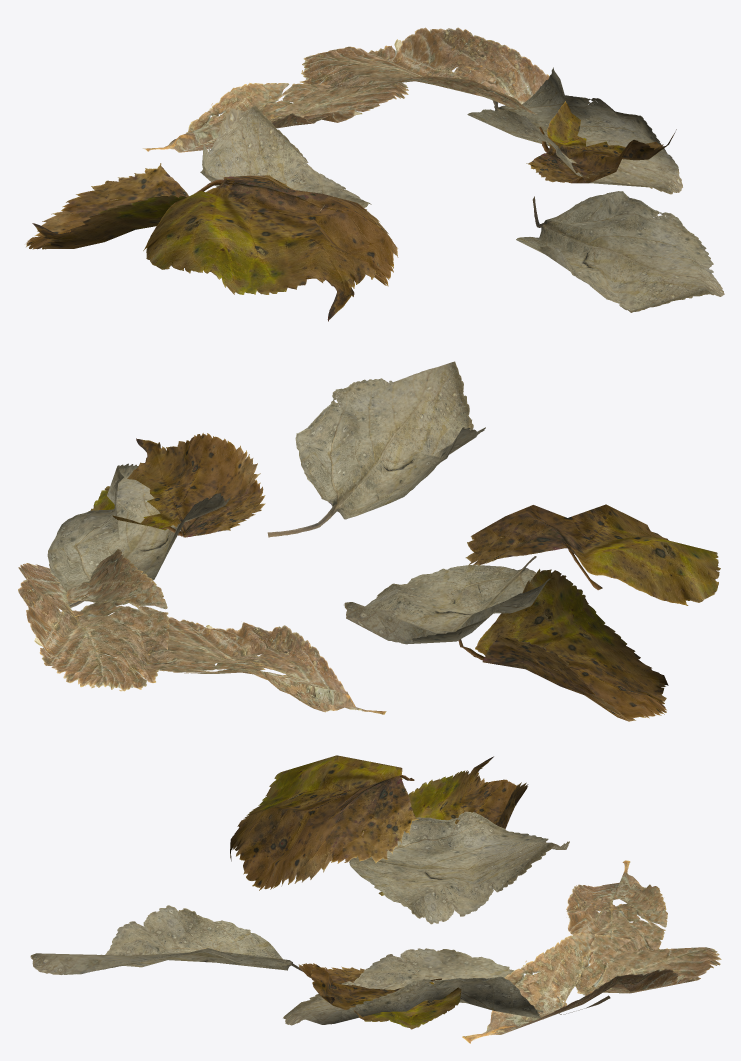
The model's file is leaves.glb.
The picture shows the model from 3 angles, top to bottom: view 1: azimuth 30°, elevation 25°; view 2: azimuth 150°, elevation 25°; view 3: azimuth 270°, elevation 25°; orthographic projection. The views are drawn at different scales.
Visible parts, largest first — view 1: AE_15TH_DRY_LEAVES_02, AE_15TH_DRY_LEAVES_03, AE_15TH_DRY_LEAVES_01; view 2: AE_15TH_DRY_LEAVES_03, AE_15TH_DRY_LEAVES_02, AE_15TH_DRY_LEAVES_01; view 3: AE_15TH_DRY_LEAVES_02, AE_15TH_DRY_LEAVES_03, AE_15TH_DRY_LEAVES_01.
Part boxes in pixels (left/top/right/bottom): AE_15TH_DRY_LEAVES_02: left=143, top=82, right=676, bottom=321; AE_15TH_DRY_LEAVES_03: left=26, top=27, right=724, bottom=312; AE_15TH_DRY_LEAVES_01: left=200, top=67, right=682, bottom=209; AE_15TH_DRY_LEAVES_03: left=18, top=361, right=668, bottom=721; AE_15TH_DRY_LEAVES_02: left=88, top=433, right=720, bottom=714; AE_15TH_DRY_LEAVES_01: left=47, top=463, right=550, bottom=644; AE_15TH_DRY_LEAVES_02: left=230, top=755, right=667, bottom=1029; AE_15TH_DRY_LEAVES_03: left=30, top=756, right=721, bottom=1043; AE_15TH_DRY_LEAVES_01: left=283, top=811, right=610, bottom=1025.
Bounding box in the file's own units: 0.2011 × 0.0309 × 0.2269.
3 materials, 3 textured.
